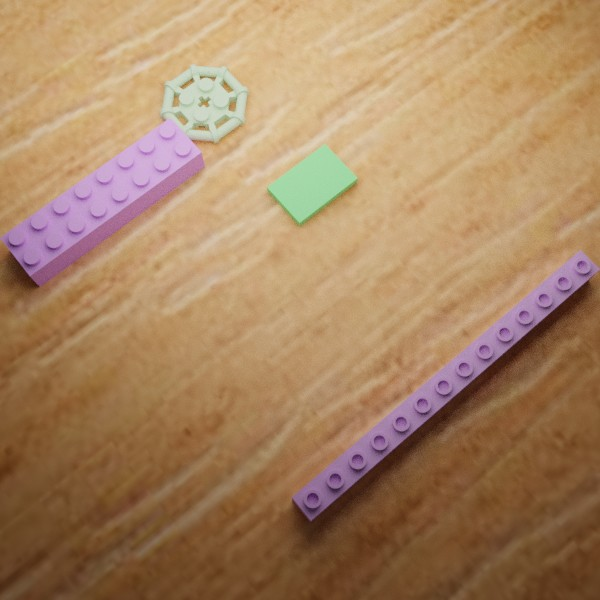lego: (291, 250, 600, 522), (0, 117, 205, 287), (267, 143, 357, 226), (159, 63, 249, 143)
